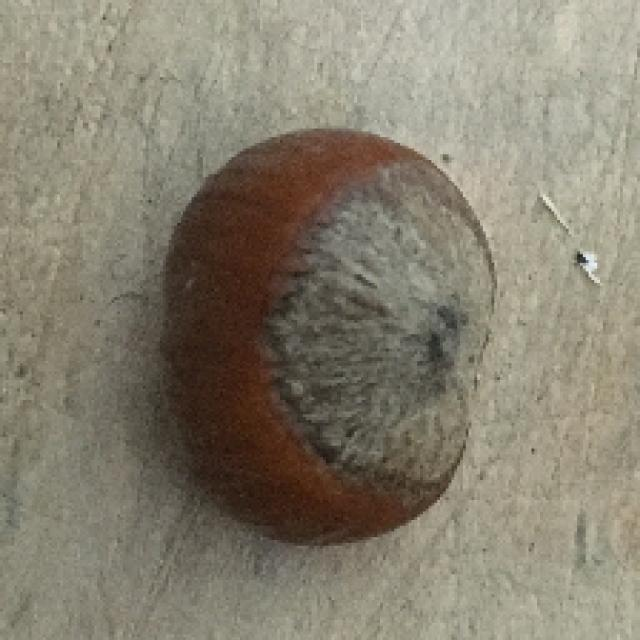qualityHazelnut: (154, 117, 500, 543)
